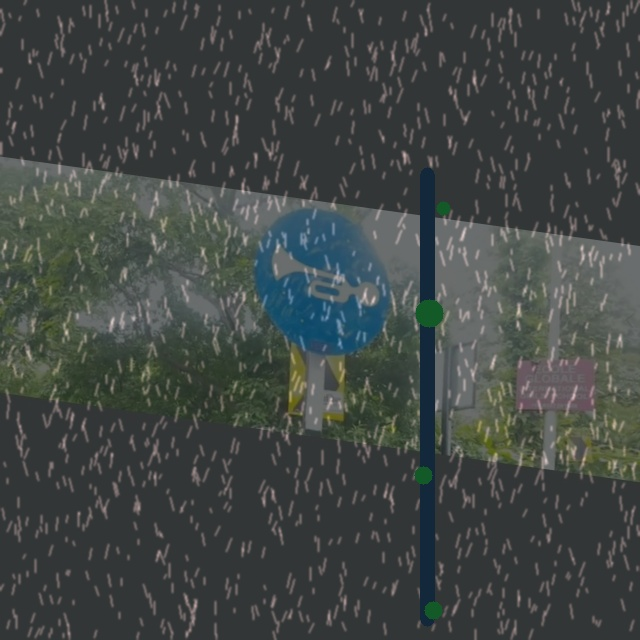Compulsory_Sound_Horn: (245, 204, 407, 358)
